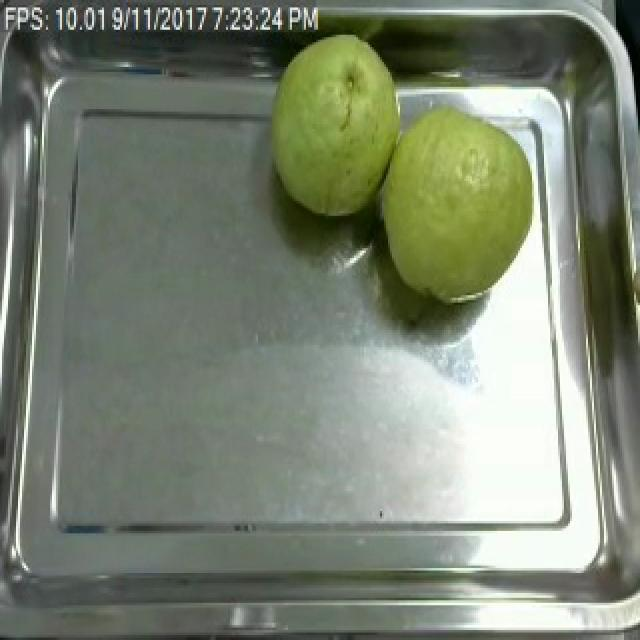Fruit: (364, 94, 554, 313), (258, 20, 418, 226)
